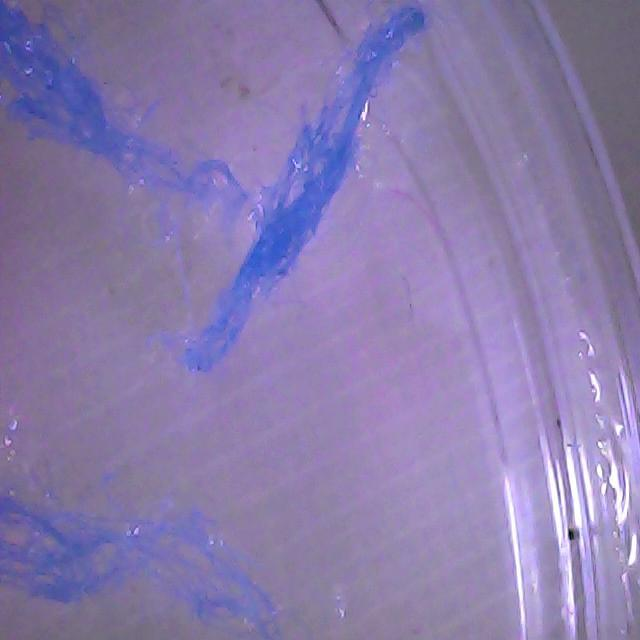fibers: (172, 0, 433, 391), (171, 0, 432, 391), (0, 474, 291, 640)
